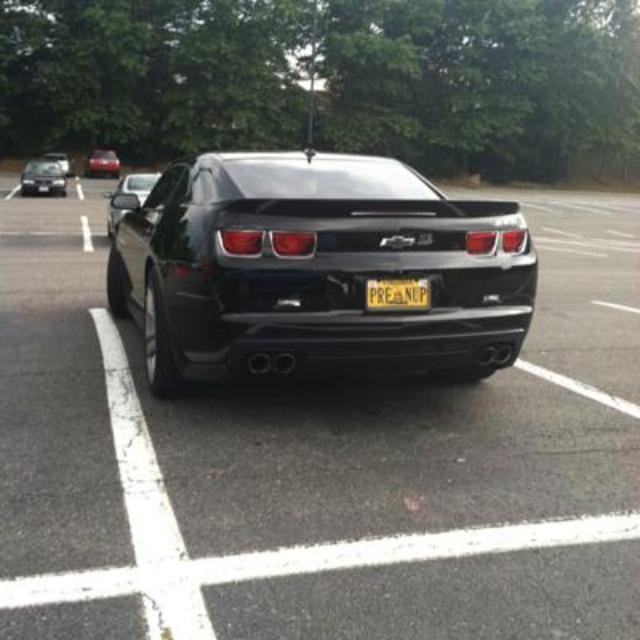car: (98, 154, 542, 412), (21, 160, 68, 198)
plate: (358, 272, 444, 318)
